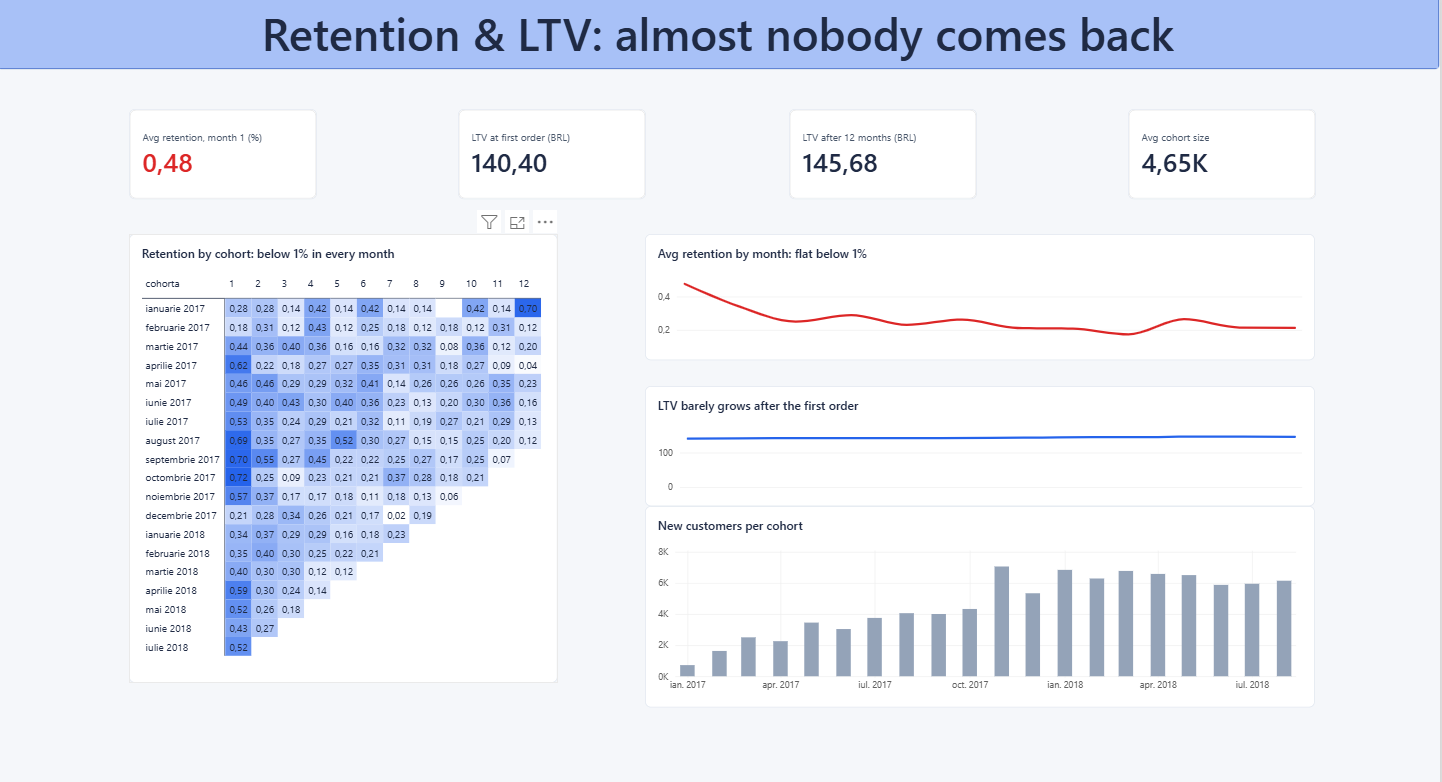

What the dashboard file says about the page in this screenshot:
{"tool":"powerbi","page":{"name":"Retention & LTV","canvas":[1920,1080],"ordinal":1},"visuals":[{"type":"shape","title":"GROWTH","box":[0,0,1920.6,101.1],"z":0},{"type":"cardVisual","title":"GMV","fields":{"Data":["Avg(vw_cohort_retention.retentie_pct)"]},"box":[176.5,153.2,250,120],"z":1000},{"type":"cardVisual","title":"GMV","fields":{"Data":["Avg(vw_cohort_retention.marime_cohorta)"]},"box":[1505.7,153.2,250,120],"z":2000},{"type":"cardVisual","title":"GMV","fields":{"Data":["Avg(vw_cohort_ltv.ltv_per_client)"]},"box":[614.2,153.2,250,120],"z":3000},{"type":"cardVisual","title":"GMV","fields":{"Data":["Avg(vw_cohort_ltv.ltv_per_client)"]},"box":[1054.8,153.2,250,120],"z":4000},{"type":"pivotTable","title":"Retention by cohort: below 1% in every month","fields":{"Columns":["vw_cohort_retention.luna_nr"],"Rows":["vw_cohort_retention.cohorta"],"Values":["Sum(vw_cohort_retention.retentie_pct)"]},"box":[176.5,319.5,570.5,596.7],"z":4001},{"type":"lineChart","title":"Avg retention by month: flat below 1%","fields":{"Category":["vw_cohort_retention.luna_nr"],"Y":["Avg(vw_cohort_retention.retentie_pct)"]},"box":[863.7,319.5,891.4,167.8],"z":4002},{"type":"lineChart","title":"LTV barely grows after the first order","fields":{"Category":["vw_cohort_ltv.luna_nr"],"Y":["Avg(vw_cohort_ltv.ltv_per_client)"]},"box":[863.7,520.9,891.4,160.5],"z":4003},{"type":"clusteredColumnChart","title":"New customers per cohort","fields":{"Category":["vw_cohort_retention.cohorta"],"Y":["Avg(vw_cohort_retention.marime_cohorta)"]},"box":[863.7,681.3,891.4,268.4],"z":4004}]}

Visuals, with their boxes on the page's 1920x1080 design canvas (x1, y1, x2, y2). These are canvas units, not pixel positions in the 1442x782 screenshot, which may show the page scaled, cropped or inside an application window:
"GROWTH" shape: <bbox>0, 0, 1921, 101</bbox>
"GMV" cardVisual: <bbox>176, 153, 426, 273</bbox>
"GMV" cardVisual: <bbox>1506, 153, 1756, 273</bbox>
"GMV" cardVisual: <bbox>614, 153, 864, 273</bbox>
"GMV" cardVisual: <bbox>1055, 153, 1305, 273</bbox>
"Retention by cohort: below 1% in every month" pivotTable: <bbox>176, 320, 747, 916</bbox>
"Avg retention by month: flat below 1%" lineChart: <bbox>864, 320, 1755, 487</bbox>
"LTV barely grows after the first order" lineChart: <bbox>864, 521, 1755, 681</bbox>
"New customers per cohort" clusteredColumnChart: <bbox>864, 681, 1755, 950</bbox>
